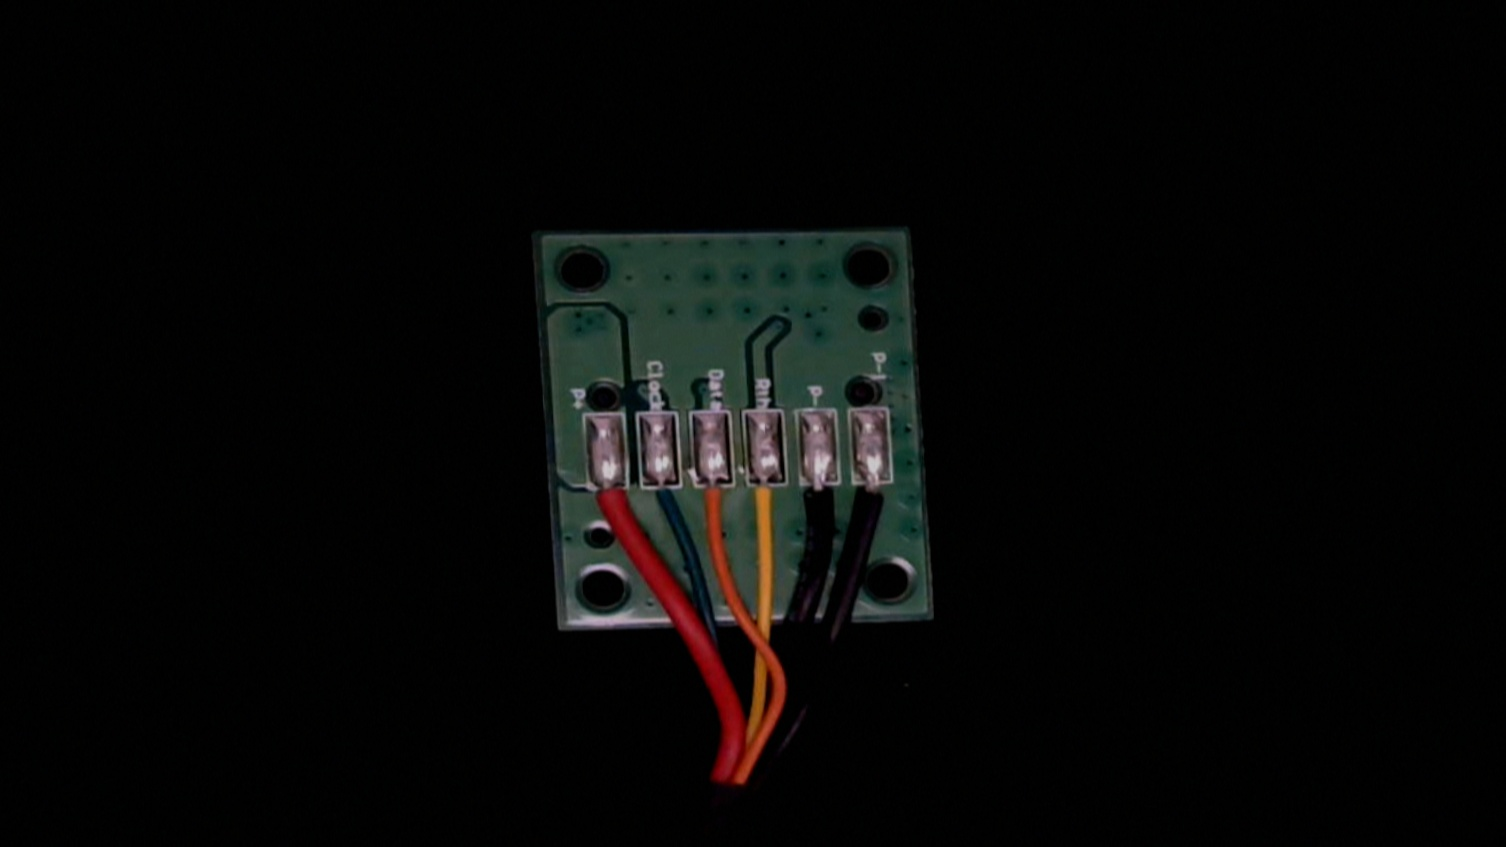Black: (794, 464, 844, 552)
Black1: (852, 466, 900, 546)
Green: (641, 464, 688, 534)
Orange: (692, 465, 740, 551)
Red: (583, 466, 633, 550)
Yellow: (742, 465, 792, 554)
